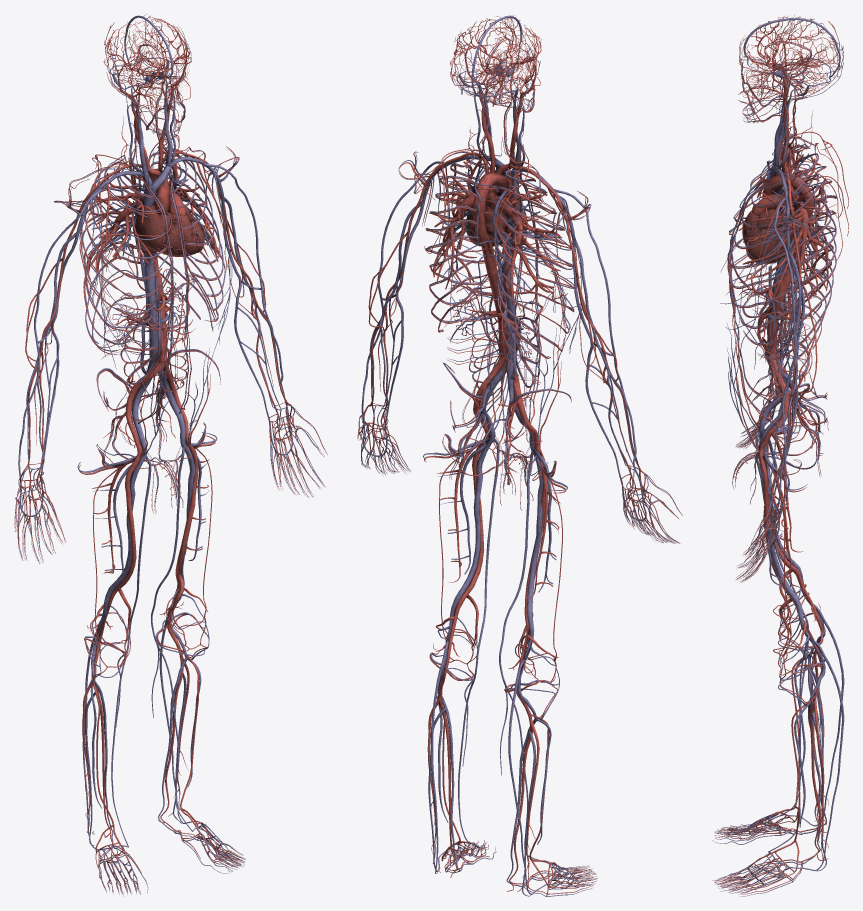
File: cardiovascular.opt.glb
The picture shows the model from 3 angles, left to right: view 1: azimuth 30°, elevation 25°; view 2: azimuth 150°, elevation 25°; view 3: azimuth 270°, elevation 25°; orthographic projection. The views are drawn at different scales.
Parts seen in each view (by area): view 1: right-superior-intercostal-vein, posterior-intercostal-arteries-r, left-superior-intercostal-vein, great-saphenous-vein-l, great-saphenous-vein-r, right-atrium, right-ventricle, posterior-intercostal-arteries-l, femoral-artery-r, cephalic-vein-r, femoral-artery-l, cephalic-vein-l (+2 smaller); view 2: posterior-intercostal-arteries-r, right-superior-intercostal-vein, left-superior-intercostal-vein, posterior-intercostal-arteries-l, great-saphenous-vein-l, great-saphenous-vein-r, femoral-vein-l, femoral-vein-r, thoracic-aorta, cephalic-vein-r, basilic-vein-r, basilic-vein-l (+4 smaller); view 3: left-superior-intercostal-vein, posterior-intercostal-arteries-l, cephalic-vein-l, right-superior-intercostal-vein, left-ventricle, small-saphenous-vein-l, femoral-artery-l, abdominal-aorta, great-saphenous-vein-r, small-saphenous-vein-r, great-saphenous-vein-l, posterior-intercostal-arteries-r (+24 smaller).
Boxes of the visible parts, x1,y1,x2,y2 form: right-superior-intercostal-vein: (81,155,172,351); posterior-intercostal-arteries-r: (79,163,169,354); left-superior-intercostal-vein: (144,147,225,330); great-saphenous-vein-l: (151,446,192,831); great-saphenous-vein-r: (111,455,151,846); right-atrium: (135,205,170,254); right-ventricle: (154,211,197,256); posterior-intercostal-arteries-l: (149,153,225,331); femoral-artery-r: (115,431,142,590); cephalic-vein-r: (18,187,101,488); femoral-artery-l: (175,418,198,575); cephalic-vein-l: (202,162,289,422); posterior-intercostal-arteries-r: (478,187,574,358); right-superior-intercostal-vein: (492,170,574,357); left-superior-intercostal-vein: (425,156,502,331); posterior-intercostal-arteries-l: (425,177,501,332); great-saphenous-vein-l: (458,439,499,845); great-saphenous-vein-r: (499,451,539,859); femoral-vein-l: (458,423,495,594); femoral-vein-r: (527,435,543,609); thoracic-aorta: (472,196,497,275); cephalic-vein-r: (554,189,643,496); basilic-vein-r: (572,238,622,483); basilic-vein-l: (384,202,424,426); left-superior-intercostal-vein: (729,163,836,358); posterior-intercostal-arteries-l: (729,175,836,359); cephalic-vein-l: (774,197,796,519); right-superior-intercostal-vein: (729,144,836,304); left-ventricle: (748,224,794,263); small-saphenous-vein-l: (803,640,844,871); femoral-artery-l: (759,431,793,601); abdominal-aorta: (764,266,793,354); great-saphenous-vein-r: (755,432,820,820); small-saphenous-vein-r: (803,604,844,826); great-saphenous-vein-l: (755,452,820,851); posterior-intercostal-arteries-r: (729,153,836,308).
Bounding box in the file's own units: 0.664 × 1.7 × 0.2489.
Materials: 5 (5 with a texture image).
